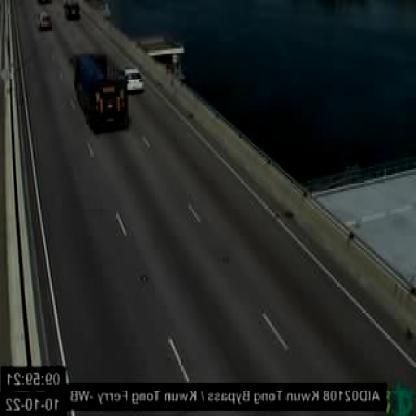Car: (124, 65, 145, 92), (36, 7, 51, 30), (63, 0, 81, 19)
Truck: (69, 52, 123, 128)
